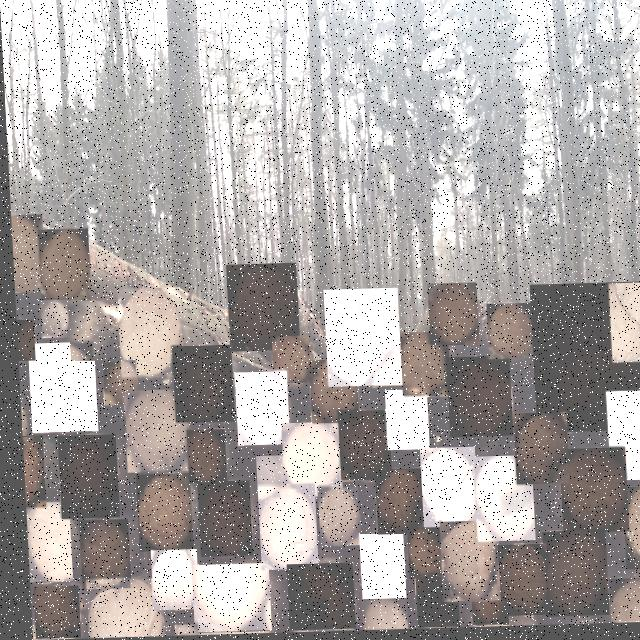wood-log: (529, 288, 640, 435), (321, 292, 396, 388), (225, 265, 295, 352), (26, 343, 92, 431), (556, 452, 622, 536), (116, 289, 178, 377), (539, 534, 601, 619), (186, 565, 262, 631), (122, 392, 185, 471), (444, 359, 506, 439), (55, 435, 113, 519), (471, 460, 529, 544), (254, 488, 311, 571), (435, 523, 491, 604), (416, 450, 472, 529), (170, 347, 228, 423), (282, 565, 348, 631), (82, 580, 157, 637), (279, 425, 336, 498), (133, 475, 187, 552), (194, 482, 245, 557), (232, 374, 284, 447), (510, 416, 563, 487), (37, 230, 87, 303), (22, 503, 67, 582), (493, 547, 542, 619), (335, 414, 386, 481), (75, 521, 124, 589), (603, 395, 640, 483), (371, 472, 419, 536), (425, 286, 474, 347), (307, 362, 354, 425), (398, 335, 445, 398), (354, 536, 399, 601), (146, 550, 191, 611), (607, 287, 640, 366), (381, 393, 424, 452), (484, 306, 529, 362), (9, 216, 42, 292), (66, 301, 107, 361), (28, 586, 73, 638), (313, 490, 353, 548), (411, 580, 453, 630), (183, 431, 220, 484), (402, 531, 439, 581), (269, 338, 306, 384), (619, 491, 640, 570), (605, 582, 640, 625), (18, 436, 39, 507), (100, 363, 134, 406), (356, 601, 401, 632), (38, 301, 66, 338), (465, 605, 501, 627), (252, 458, 278, 488), (14, 320, 32, 361), (168, 626, 191, 636)
